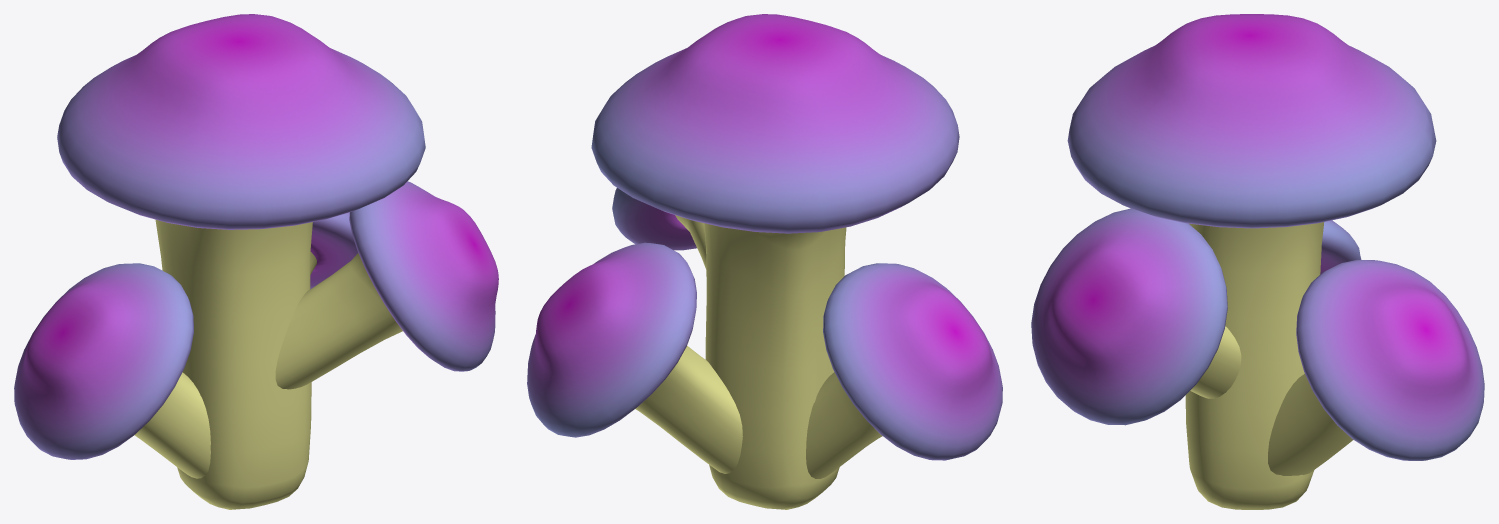
The model's file is M_LongMushroom.fbx.
3 renders of one model, left to right at view 1: azimuth 30°, elevation 25°; view 2: azimuth 150°, elevation 25°; view 3: azimuth 270°, elevation 25°, orthographic.
Visible parts, largest first — view 1: M_LongMushroom; view 2: M_LongMushroom; view 3: M_LongMushroom.
Part boxes in pixels (bbox=[...]): M_LongMushroom: bbox=[14, 14, 498, 509]; M_LongMushroom: bbox=[527, 14, 1002, 509]; M_LongMushroom: bbox=[1031, 14, 1484, 509].
Bounding box in the file's own units: 1.01 × 1.09 × 0.9763.
1 material, 1 textured.
